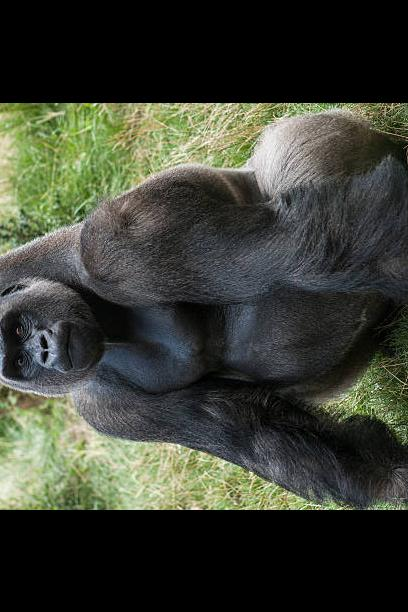gorille_Autres: (0, 128, 408, 504)
